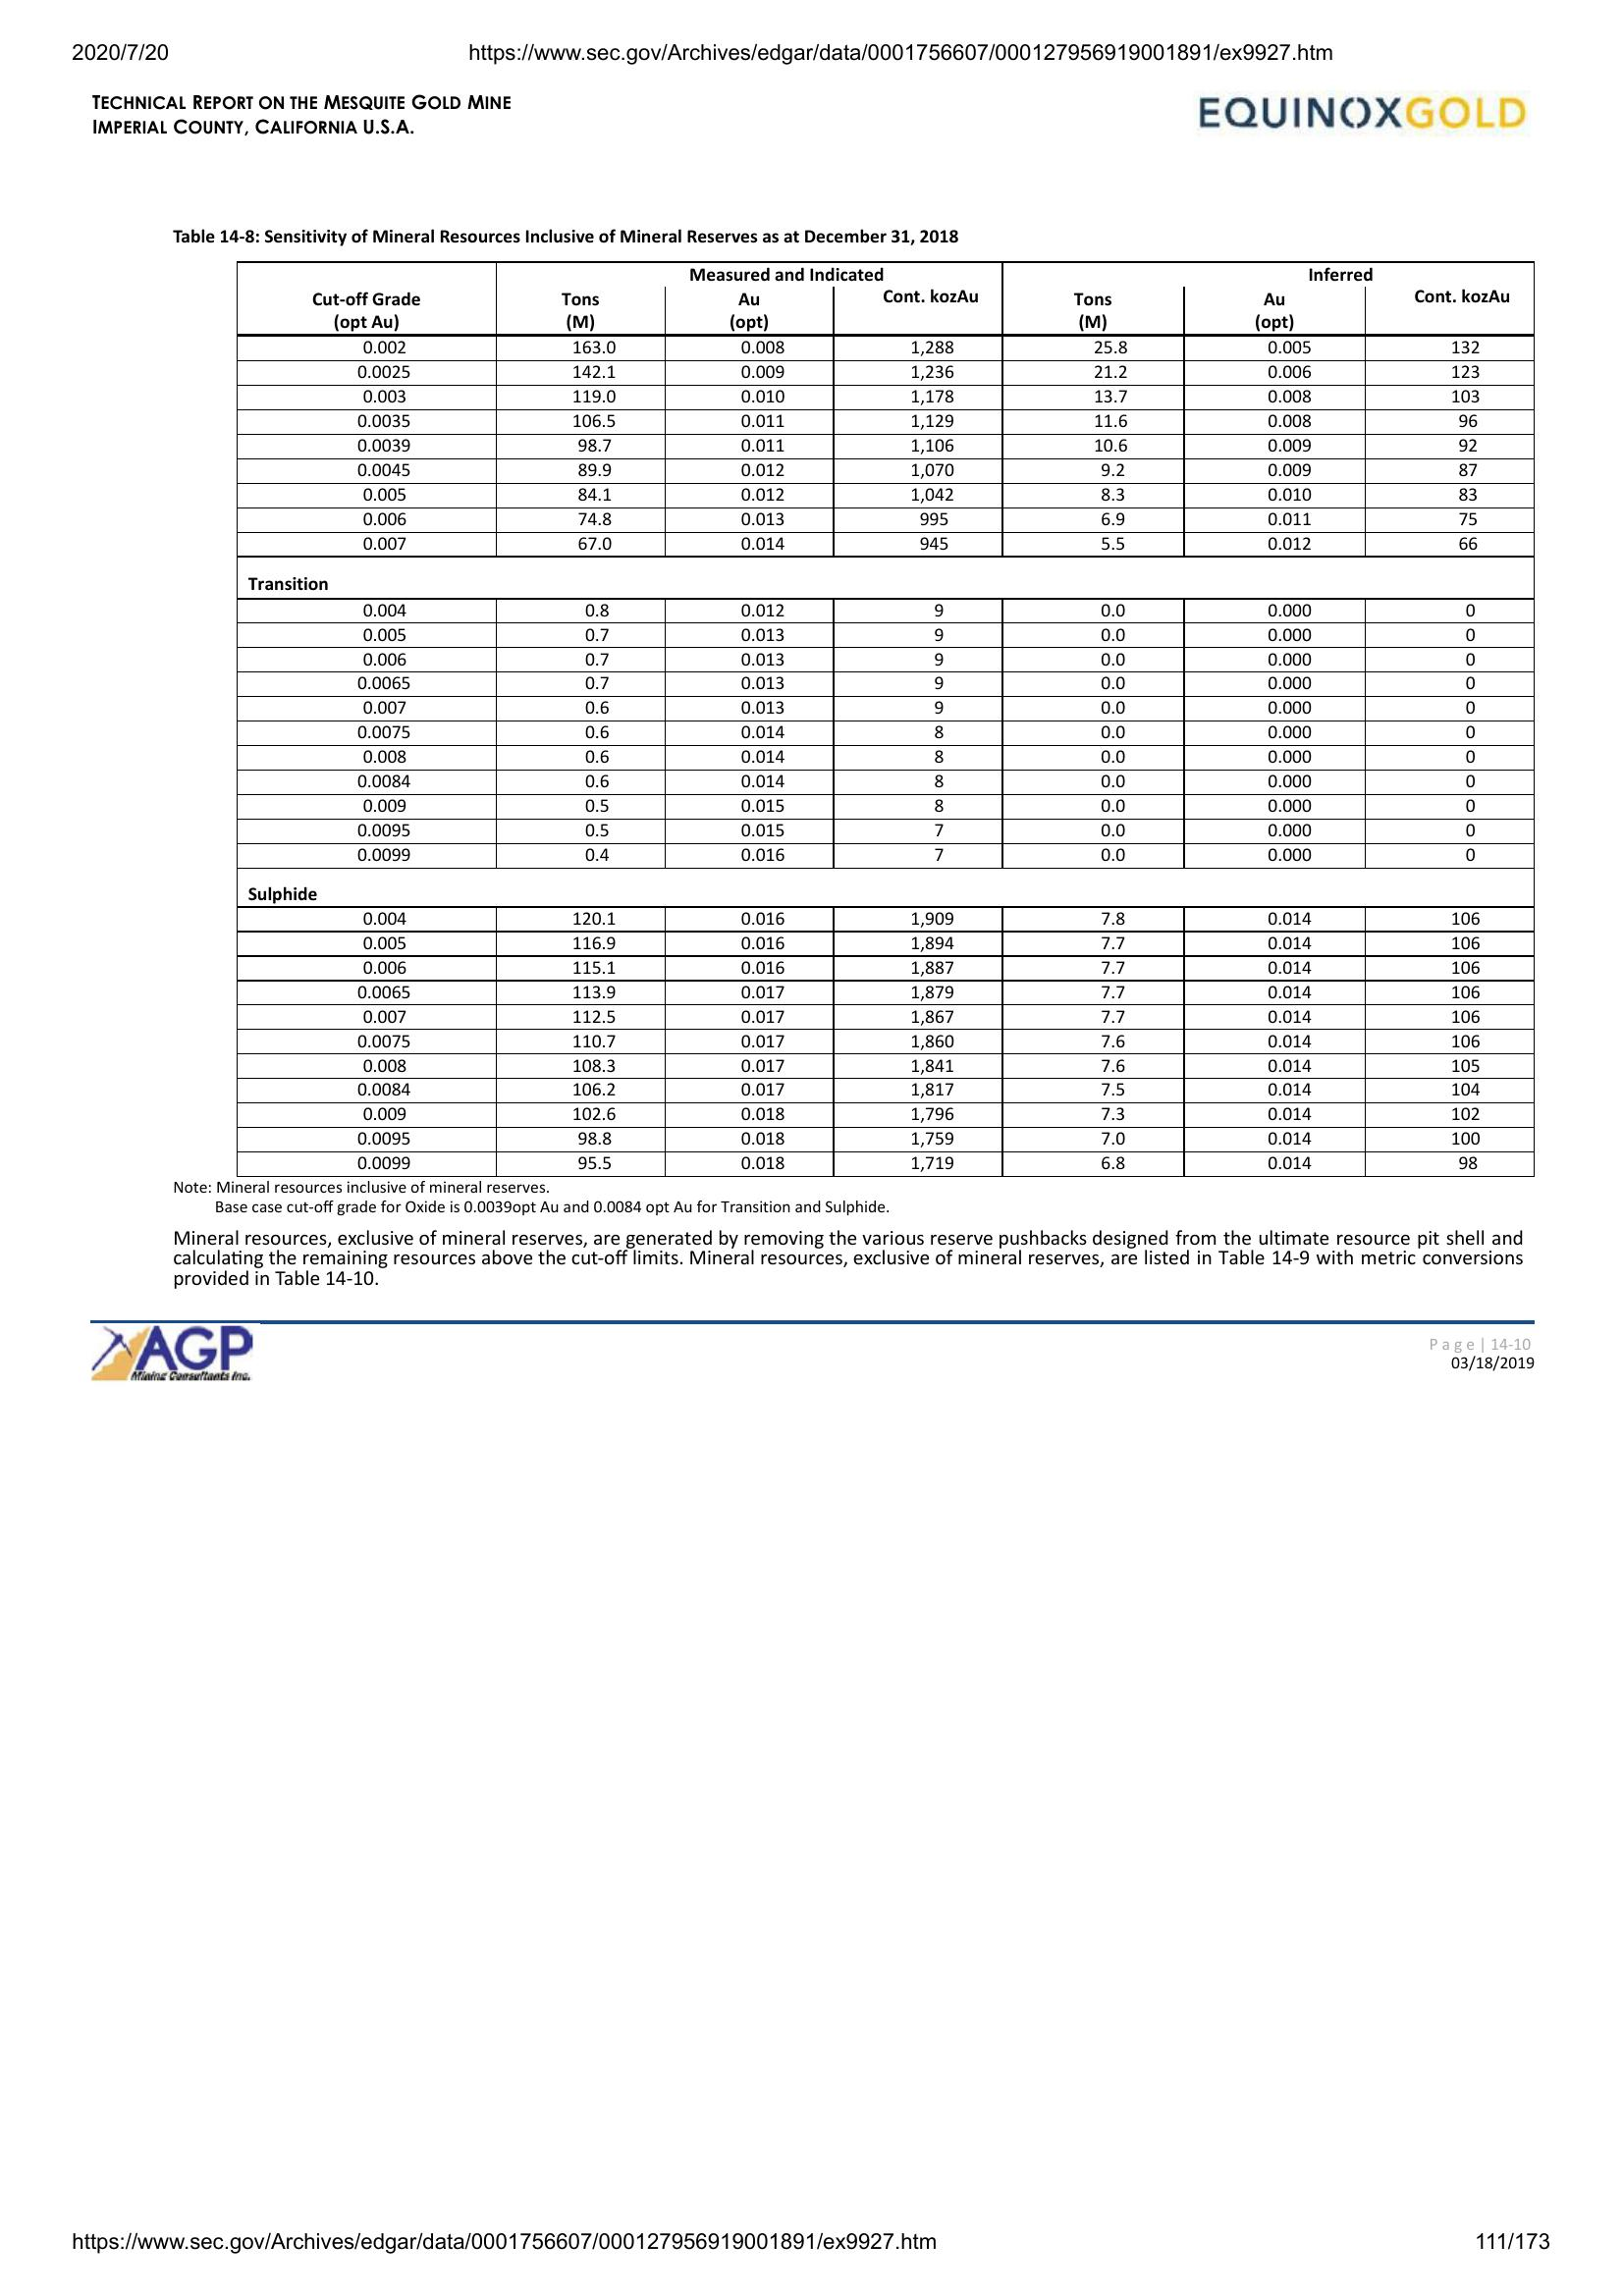table: (234, 255, 1540, 1181)
